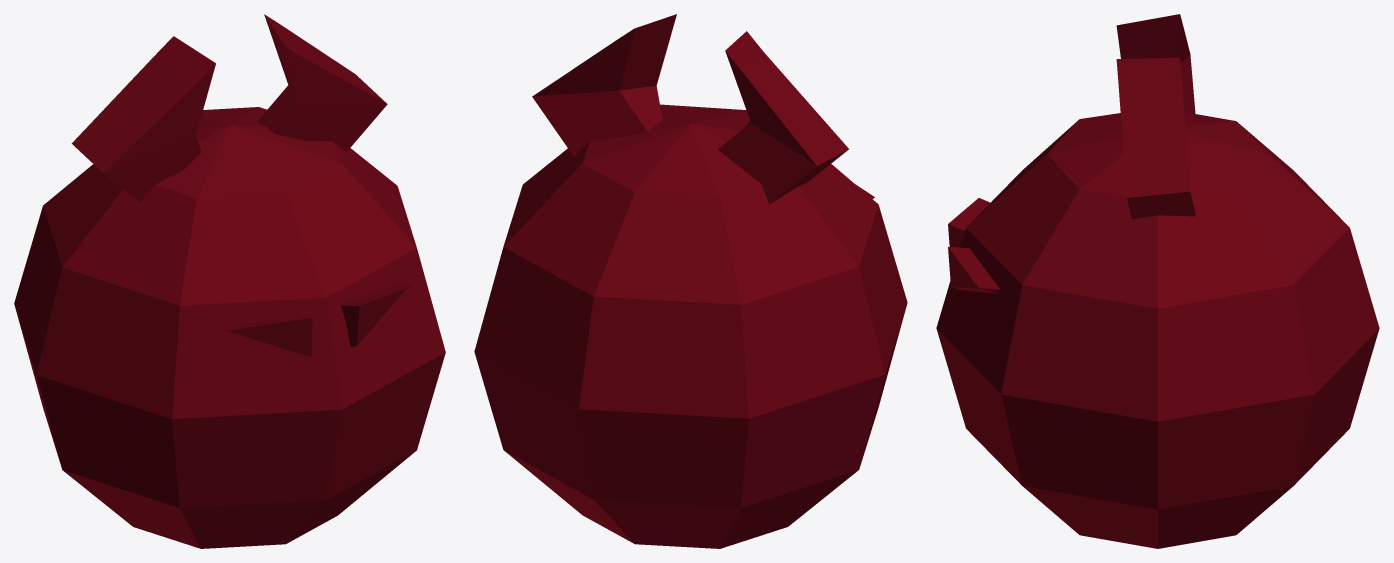
Rendered from demonFaceEnemy.fbx.
The picture shows the model from 3 angles, left to right: view 1: azimuth 30°, elevation 25°; view 2: azimuth 150°, elevation 25°; view 3: azimuth 270°, elevation 25°; orthographic projection.
Parts seen in each view (by area): view 1: Sphere; view 2: Sphere; view 3: Sphere.
Part boxes in pixels (<box>): Sphere: <box>14,14,445,548</box>; Sphere: <box>474,14,907,548</box>; Sphere: <box>936,14,1379,548</box>.
Size of the model in its own units: 200 by 246 by 200.
